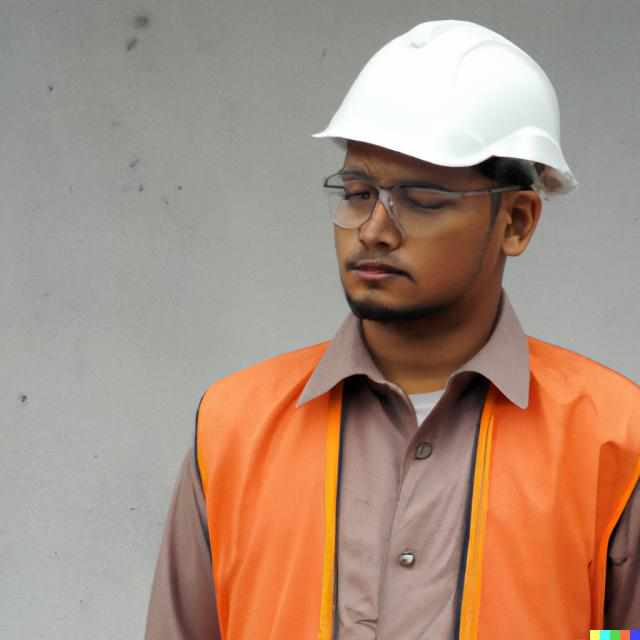Reflective-Jacket: (179, 332, 640, 638)
Safety-Helmet: (312, 15, 586, 186)
